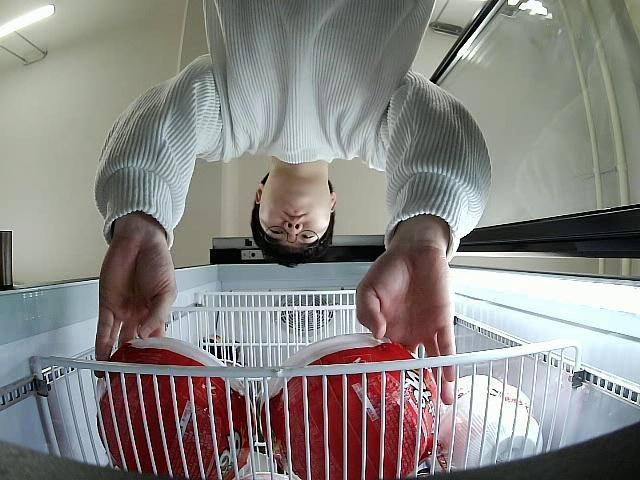10_wangTtukkeong: (265, 334, 440, 480), (95, 339, 256, 480)
